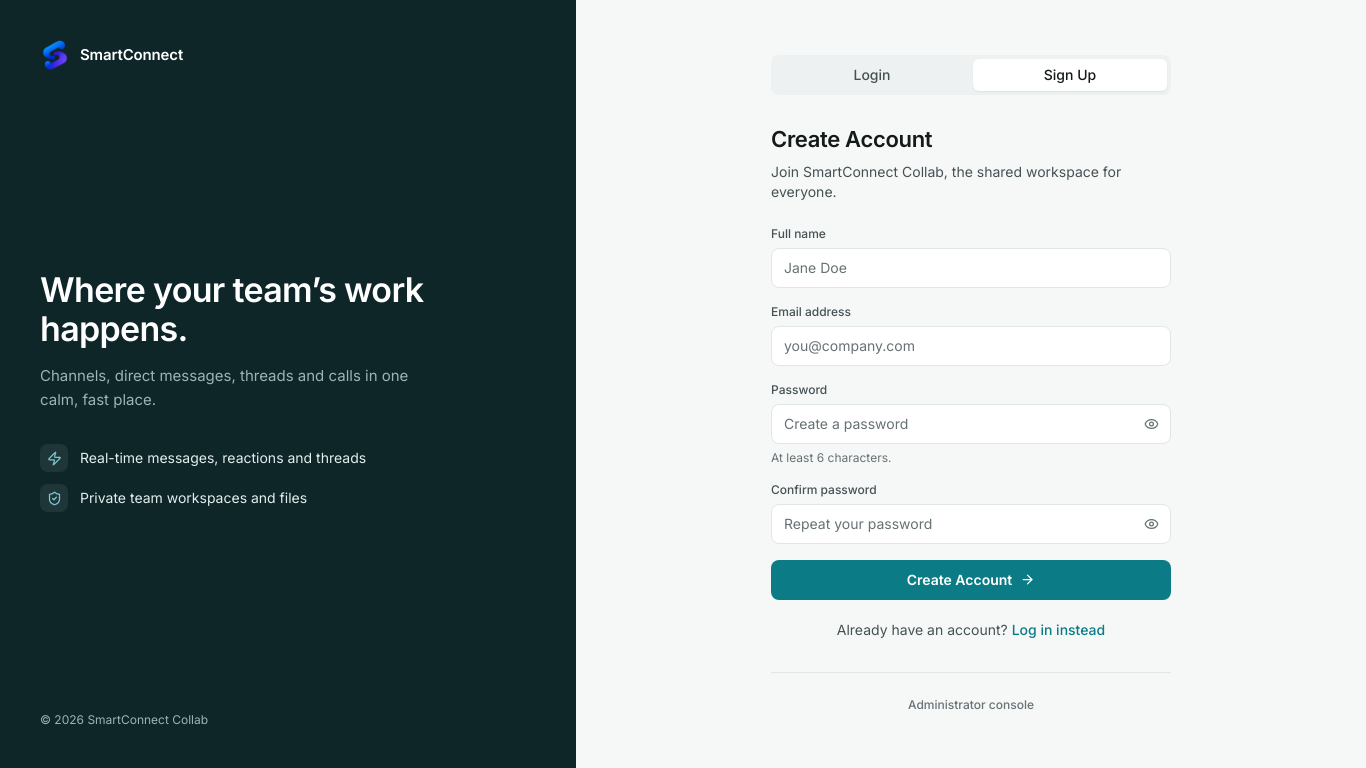
Test: AuthForm — public sign-up › shows the server’s answer (e.g. an address that already has an account)
The image size is (1366, 768).
Type "Nadia Khan" into the field labelled "Full name" at (971, 268), box [771, 248, 1171, 288]
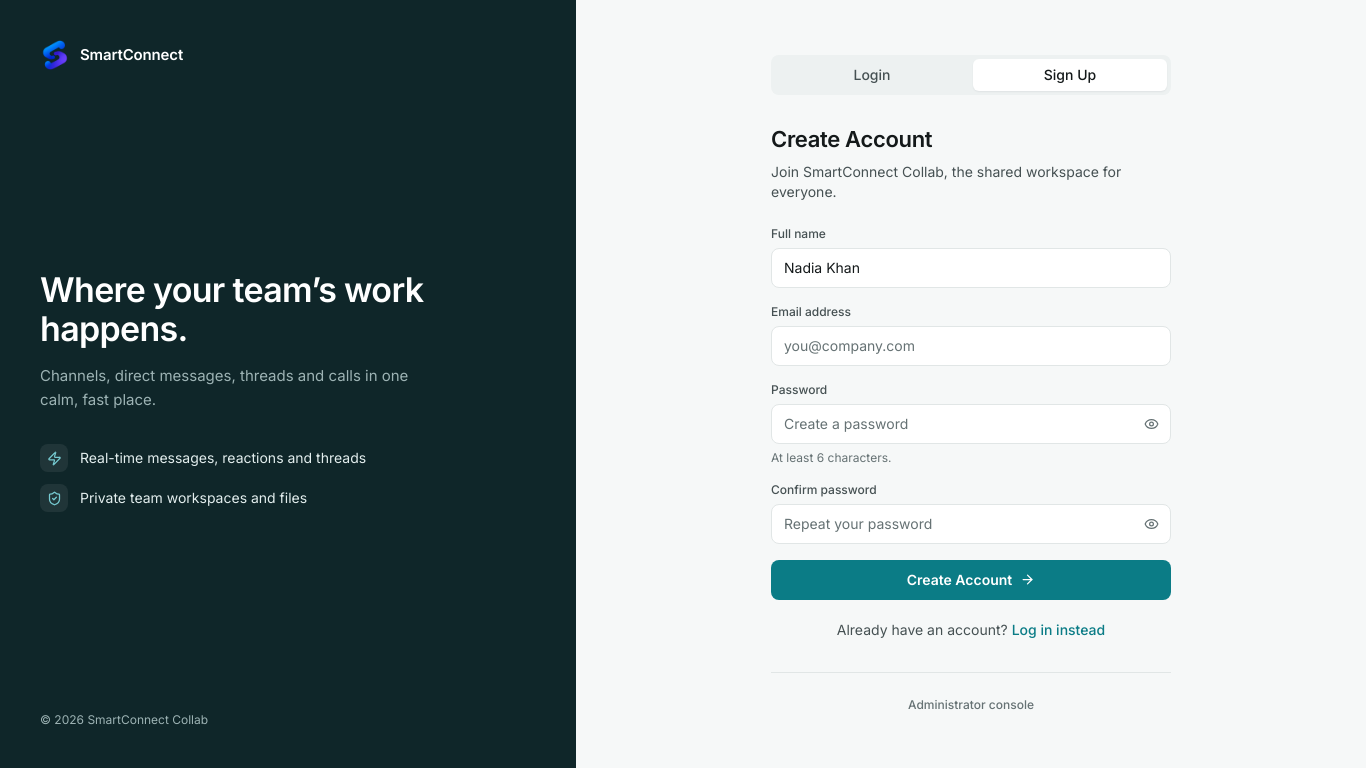
Type "nadia@acme.io" into the field labelled "Email address" at (971, 346), box [771, 326, 1171, 366]
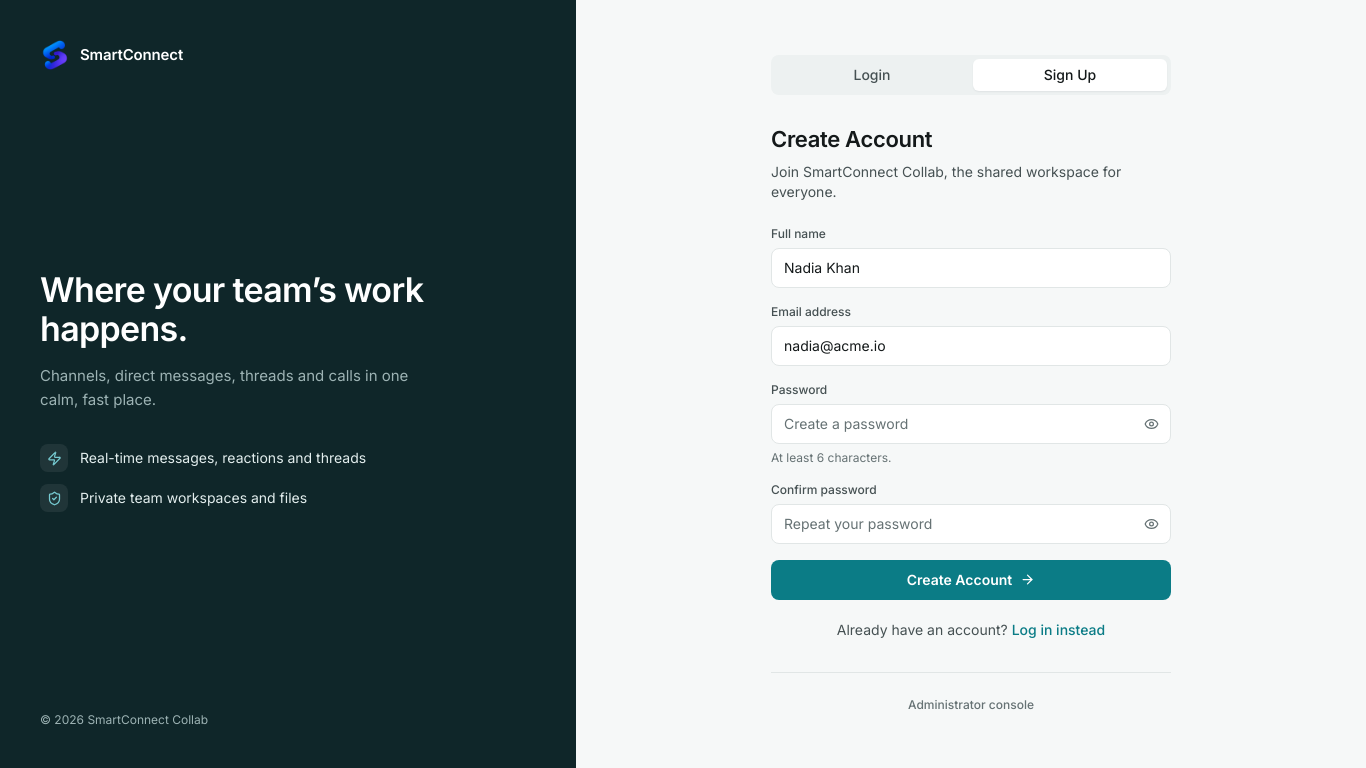
Type "Password123!" into the password field labelled "Password" at (971, 424), box [771, 404, 1171, 444]
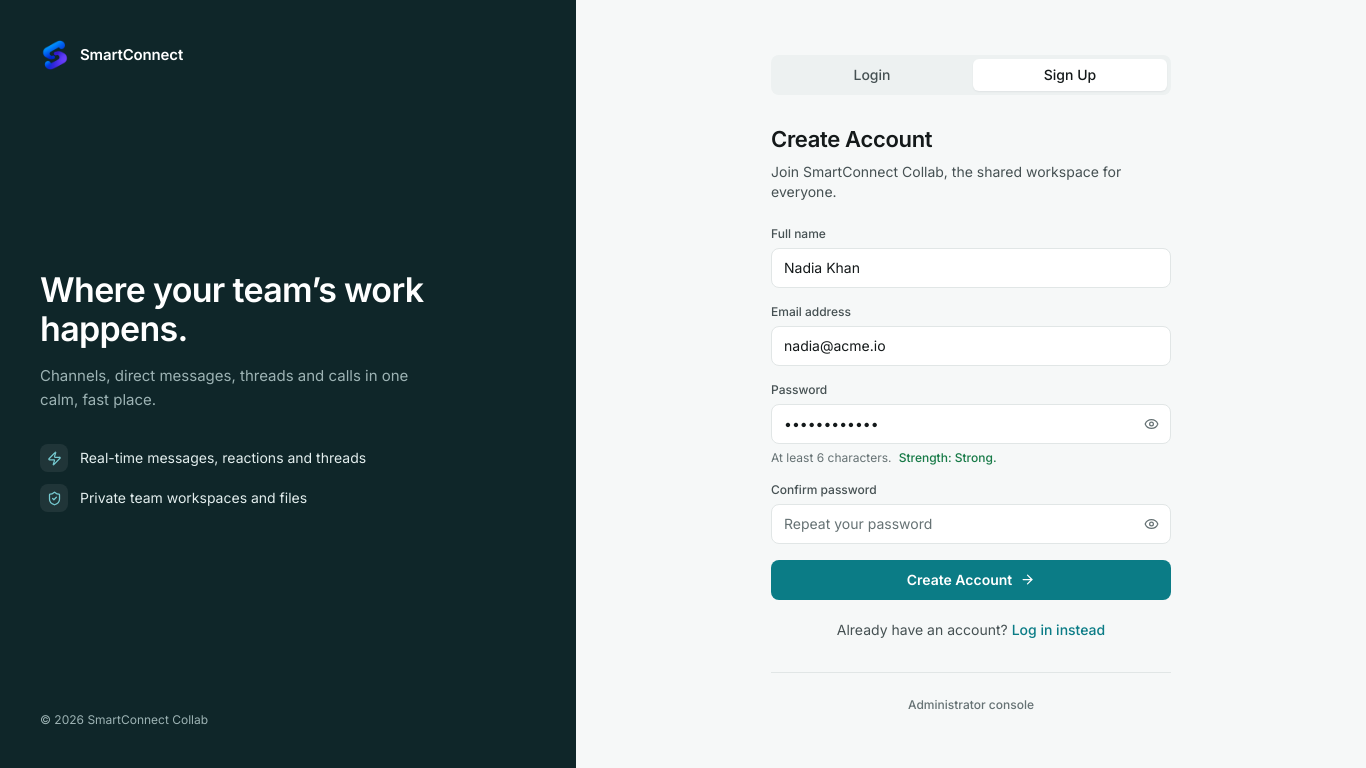
Type "Password123!" into the password field labelled "Confirm password" at (971, 524), box [771, 504, 1171, 544]
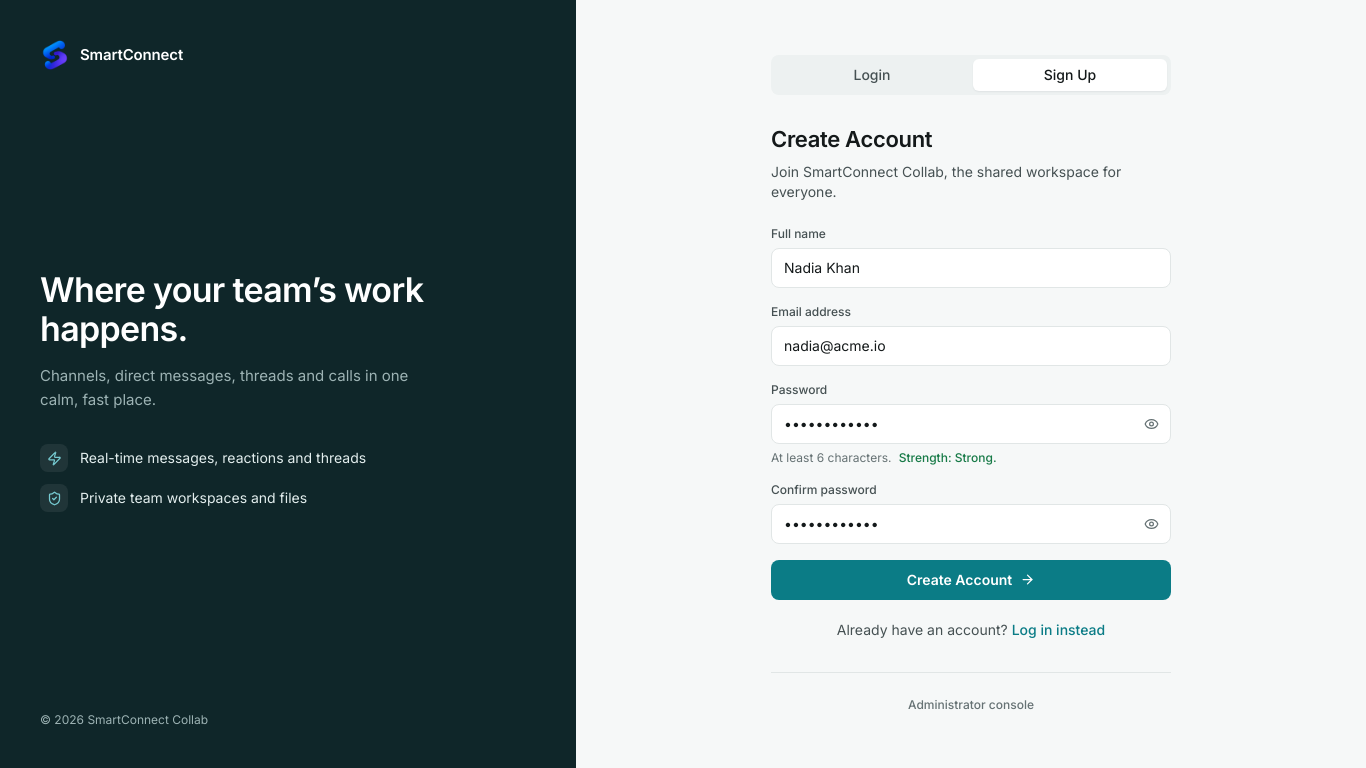
Click the button "Create Account" at (971, 580), box [771, 560, 1171, 600]
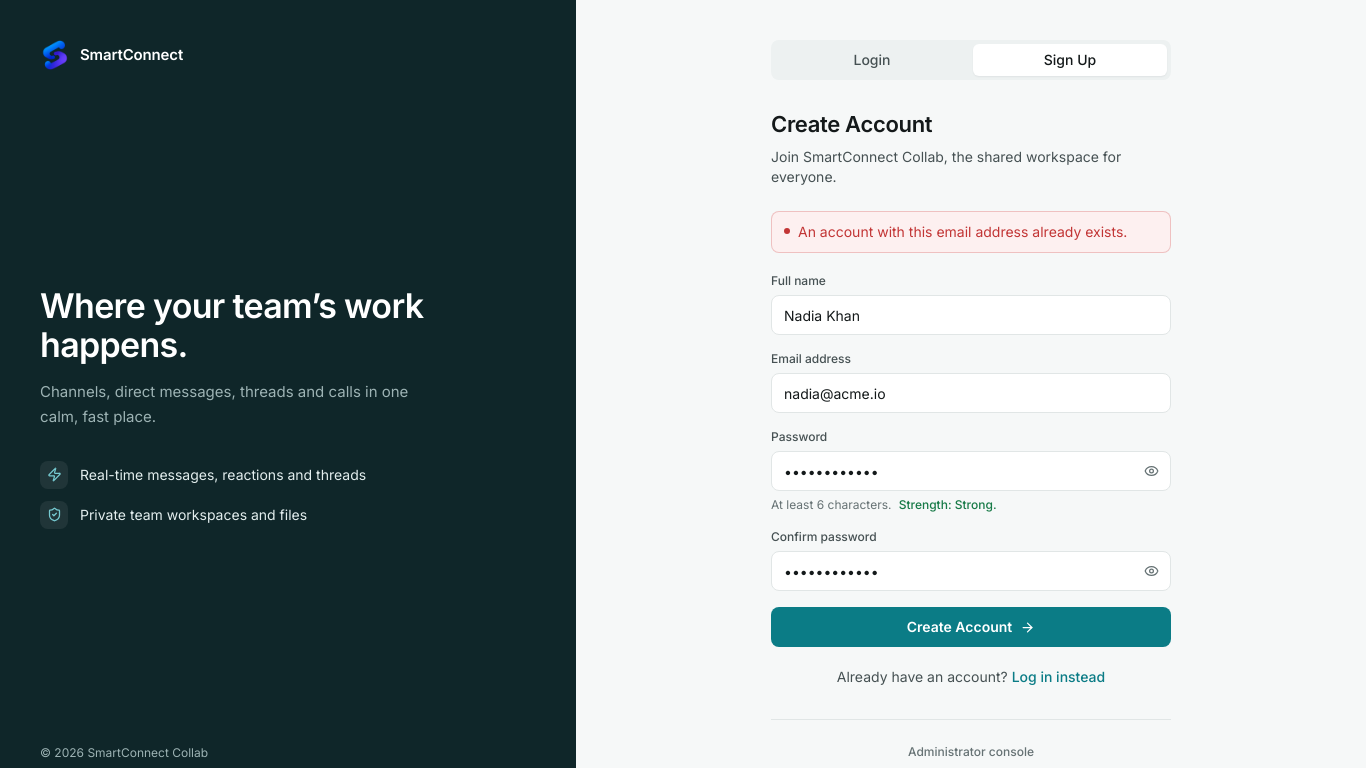
Expected: the message reads "An account with this email address already exists.", [798, 223, 1127, 240]
